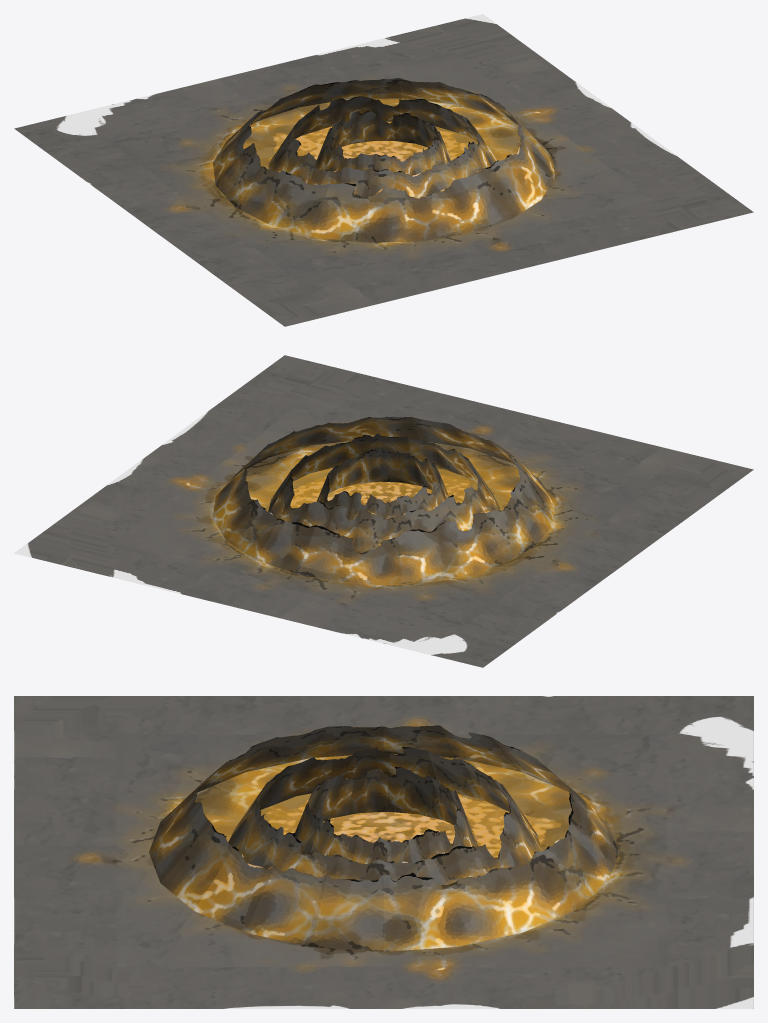
Rendered from courage_base.fbx.
3 renders of one model, top to bottom at view 1: azimuth 30°, elevation 25°; view 2: azimuth 150°, elevation 25°; view 3: azimuth 270°, elevation 25°, orthographic. The views are drawn at different scales.
Visible parts, largest first — view 1: courage_base; view 2: courage_base; view 3: courage_base.
Boxes of the visible parts, x1,y1,x2,y2 form: courage_base: (14, 14, 753, 326); courage_base: (14, 355, 753, 667); courage_base: (14, 696, 753, 1008).
Bounding box in the file's own units: 117 × 10.18 × 117.
